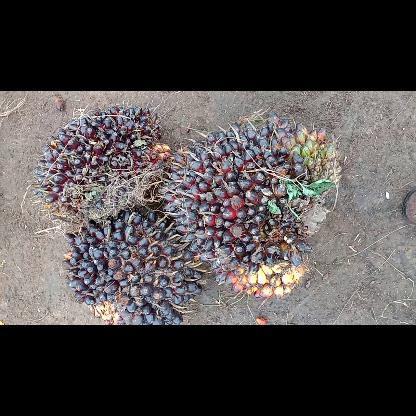TBS mentah: (160, 107, 343, 299), (30, 104, 172, 231), (60, 208, 206, 324)
